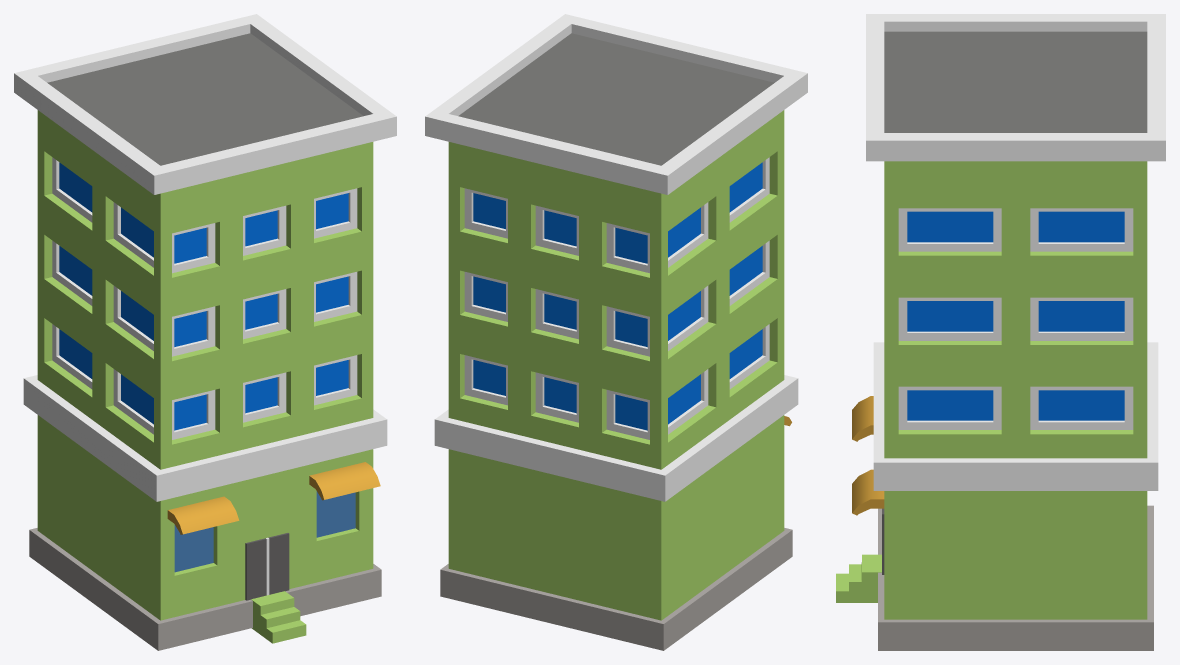
Rendered from Apartment_4.fbx.
The picture shows the model from 3 angles, left to right: view 1: azimuth 30°, elevation 25°; view 2: azimuth 150°, elevation 25°; view 3: azimuth 270°, elevation 25°; orthographic projection. The views are drawn at different scales.
Parts seen in each view (by area): view 1: Apartment_4; view 2: Apartment_4; view 3: Apartment_4.
Boxes of the visible parts, bbox=[...] form: Apartment_4: bbox=[14, 14, 396, 650]; Apartment_4: bbox=[425, 14, 807, 650]; Apartment_4: bbox=[836, 14, 1165, 650].
Size of the model in its own units: 837 by 1593 by 921.
